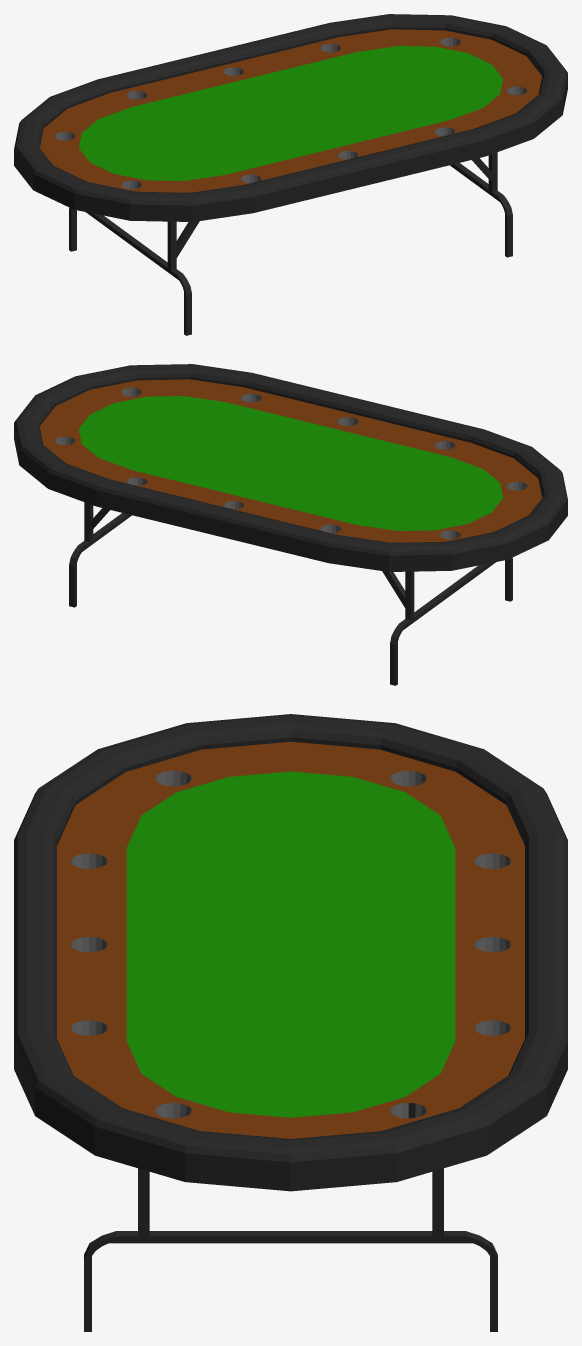
The model's file is prop_pokertable.fbx.
3 renders of one model, top to bottom at view 1: azimuth 30°, elevation 25°; view 2: azimuth 150°, elevation 25°; view 3: azimuth 270°, elevation 25°, orthographic. The views are drawn at different scales.
Visible parts, largest first — view 1: Cube; view 2: Cube; view 3: Cube.
Part boxes in pixels (left/top/right/bottom): Cube: left=14, top=14, right=567, bottom=335; Cube: left=14, top=364, right=567, bottom=685; Cube: left=14, top=714, right=567, bottom=1331.
Size of the model in its own units: 482 by 131 by 254.
